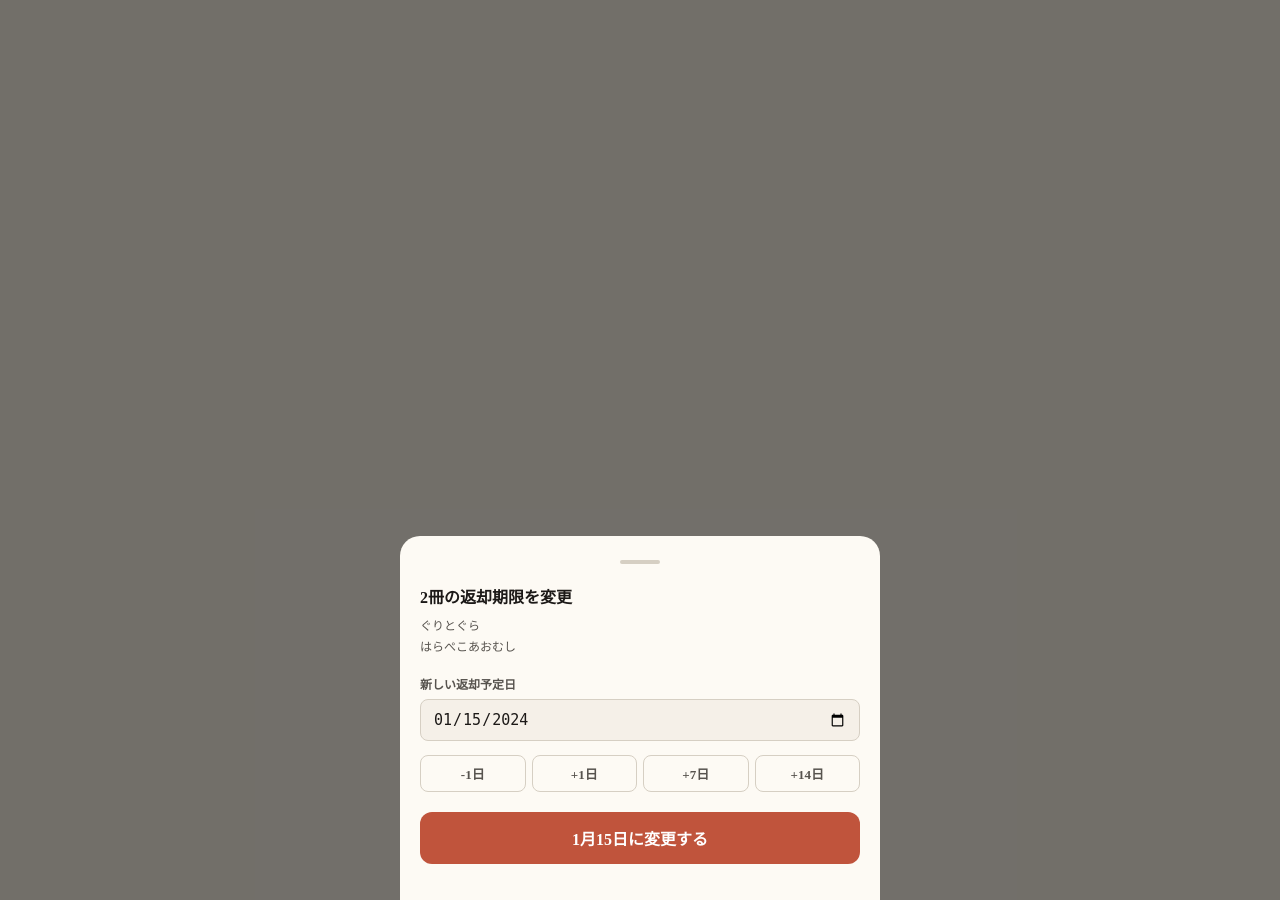
Scenario: DueDateSheet › when a shortcut is tapped twice, it should apply the shift cumulatively
Click the button "-1日".
click(473, 774)  # box [420,755,526,792]
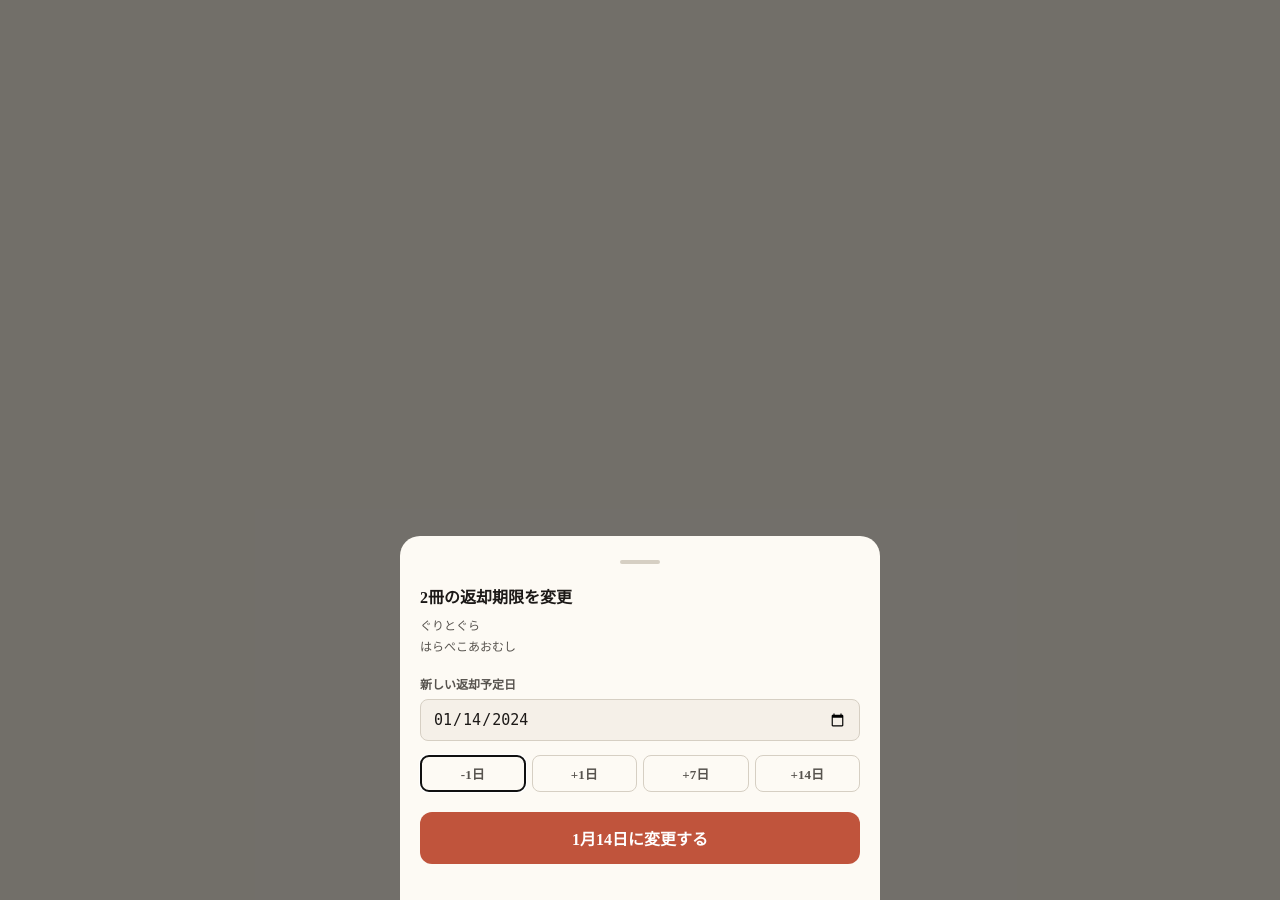
Click the button "-1日".
click(473, 774)  # box [420,755,526,792]
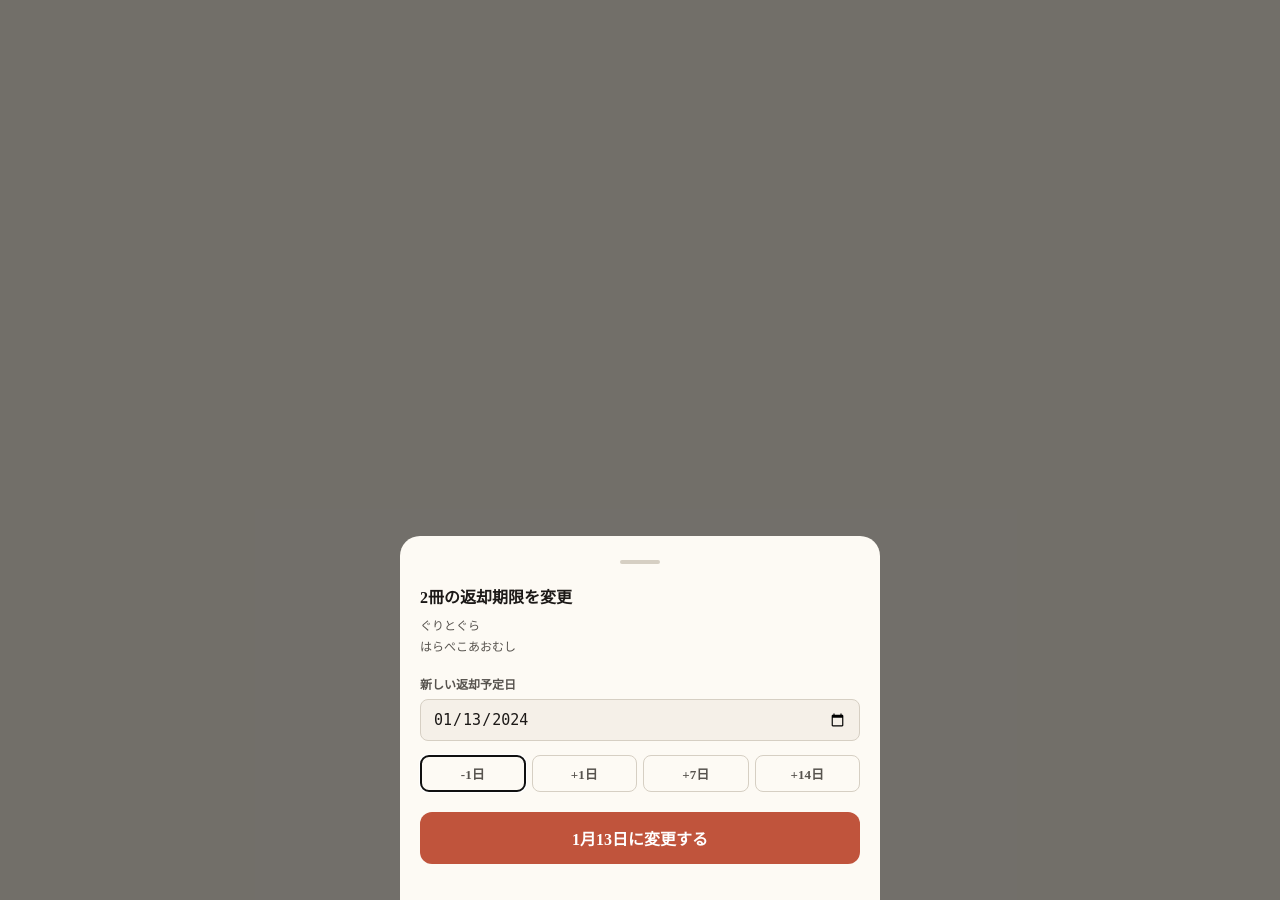
Now the date field labelled "新しい返却予定日" holds "2024-01-13", box [420,699,860,741]
